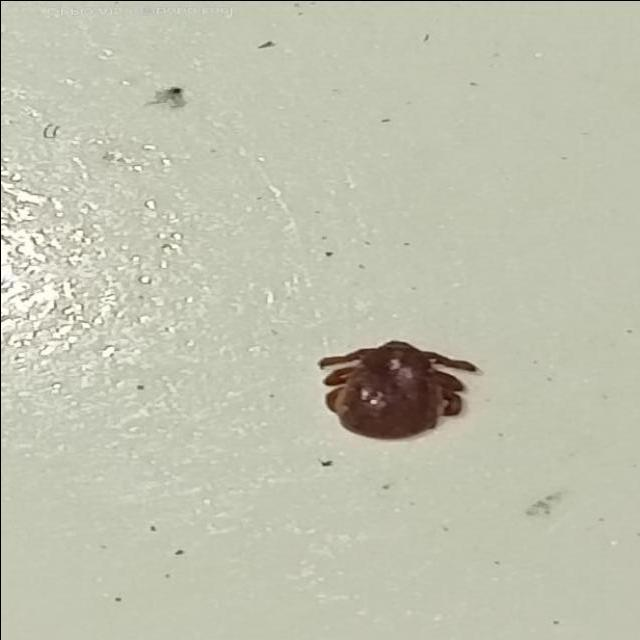Rhipicephalus Sanguineus-M: (315, 336, 479, 439)
